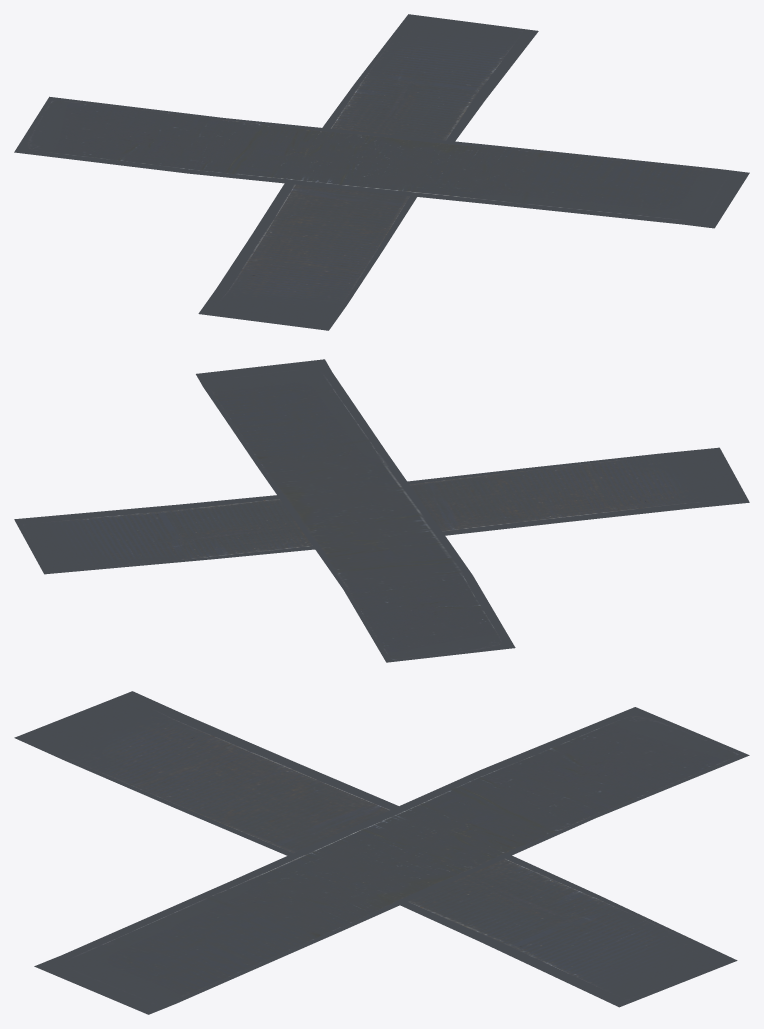
Rendered from SM_Decal_Tape_A.fbx.
3 views of the same model, one above another, from view 1: azimuth 30°, elevation 25°; view 2: azimuth 150°, elevation 25°; view 3: azimuth 270°, elevation 25° (orthographic). The views are drawn at different scales.
Parts seen in each view (by area): view 1: SM_Decal_Tape_A_LOD0; view 2: SM_Decal_Tape_A_LOD0; view 3: SM_Decal_Tape_A_LOD0.
Part boxes in pixels (x1,y1,x2,y2): SM_Decal_Tape_A_LOD0: [14, 14, 749, 330]; SM_Decal_Tape_A_LOD0: [14, 359, 749, 662]; SM_Decal_Tape_A_LOD0: [14, 691, 749, 1014].
Size of the model in its own units: 46.25 by 44.42 by 0.00141.
Materials: 1 (1 with a texture image).
